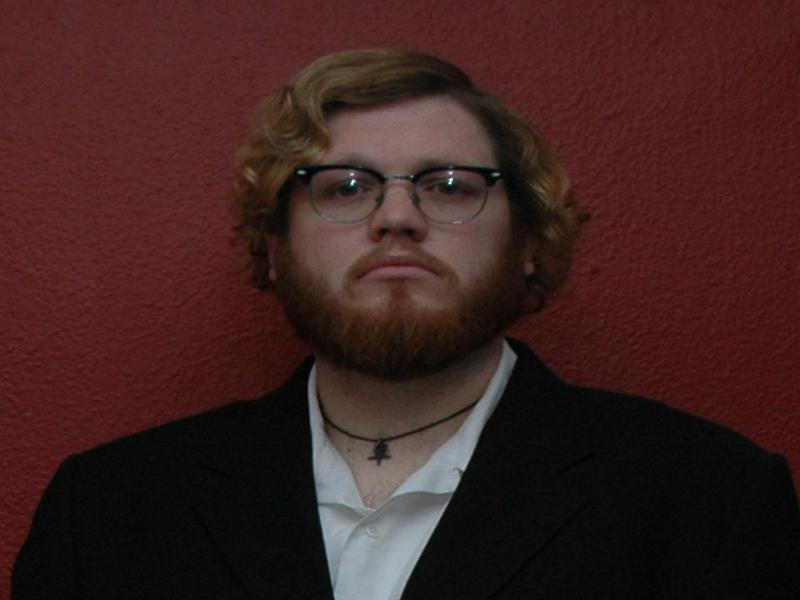person: (14, 49, 800, 598)
